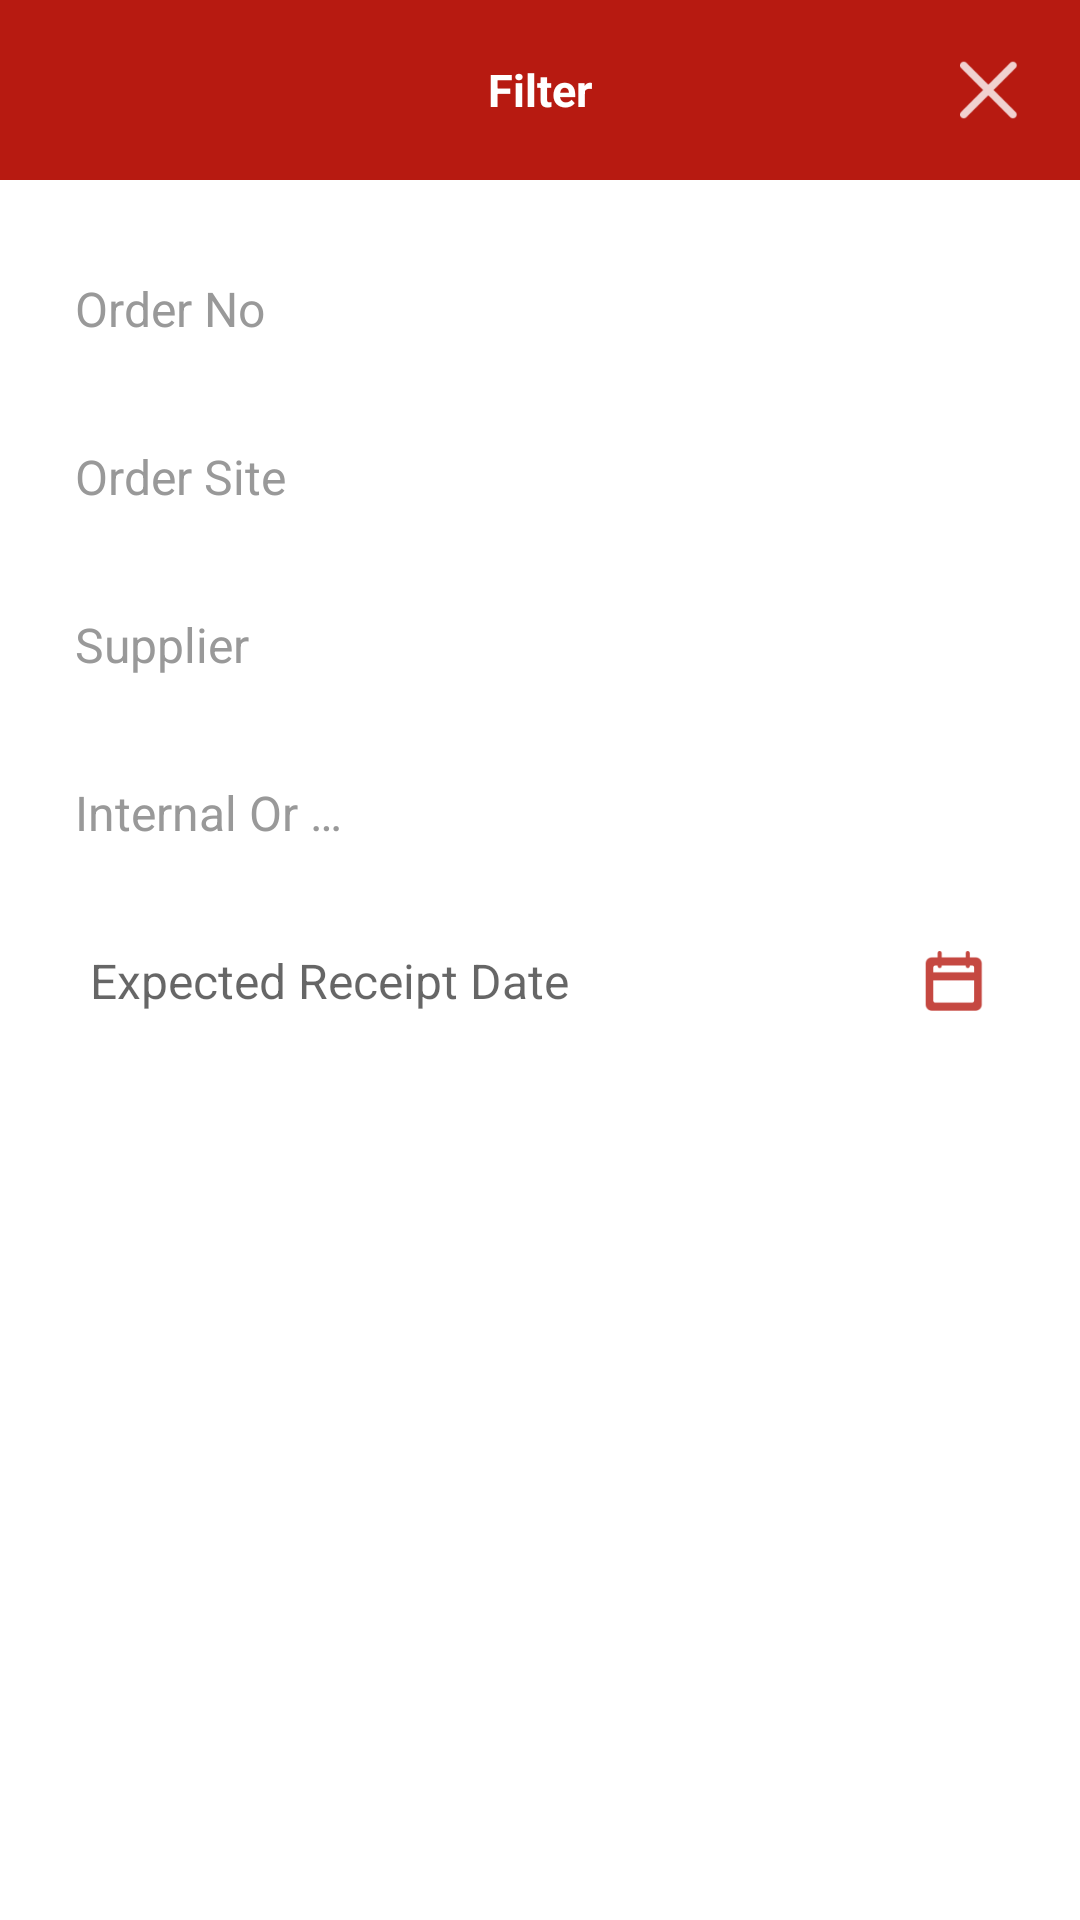

Point at icon controls on the screen. Image size 1080px×1920px, points as [x,y].
calendar: [953,981]
close: [988,90]
